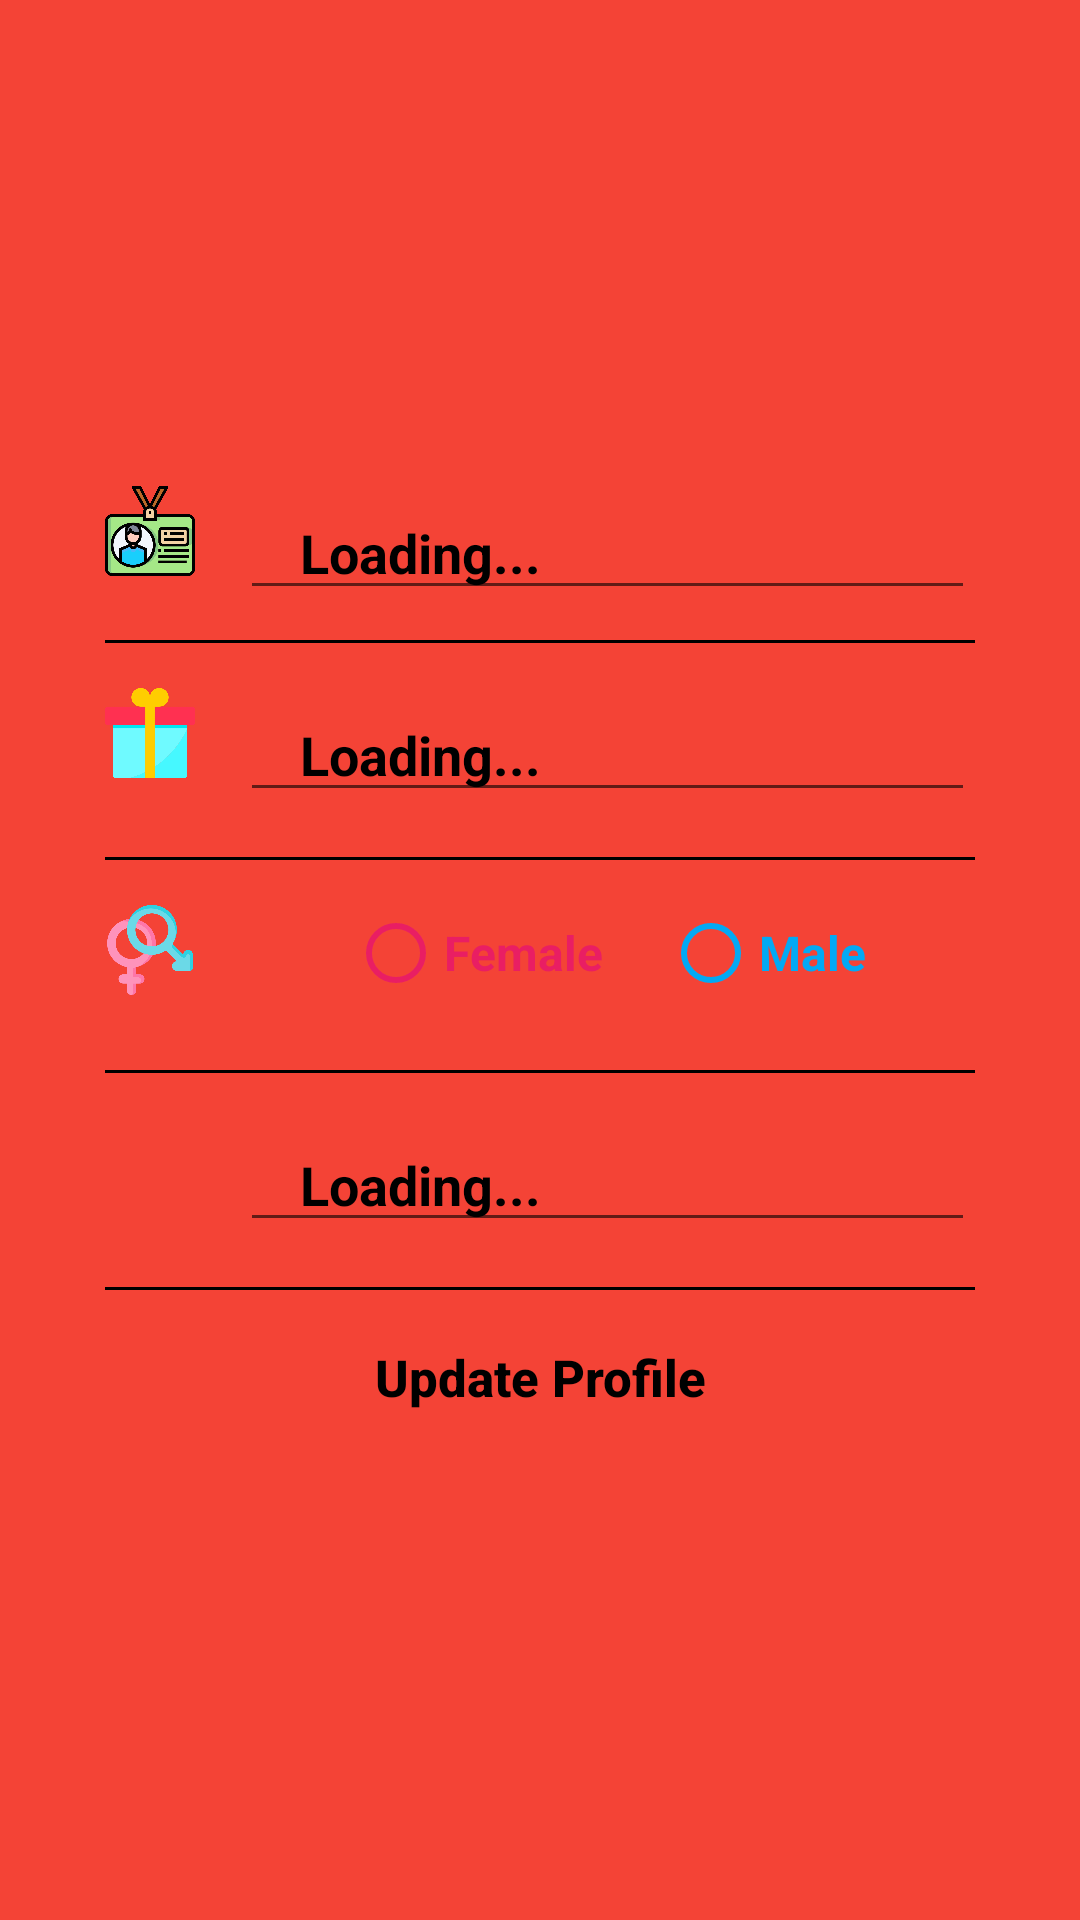

Point at icon controls on the screen. Image size 1080 × 1920, points as (x=x, y=y).
birthday: (x=150, y=733)
fullname: (x=150, y=531)
gender: (x=150, y=950)
